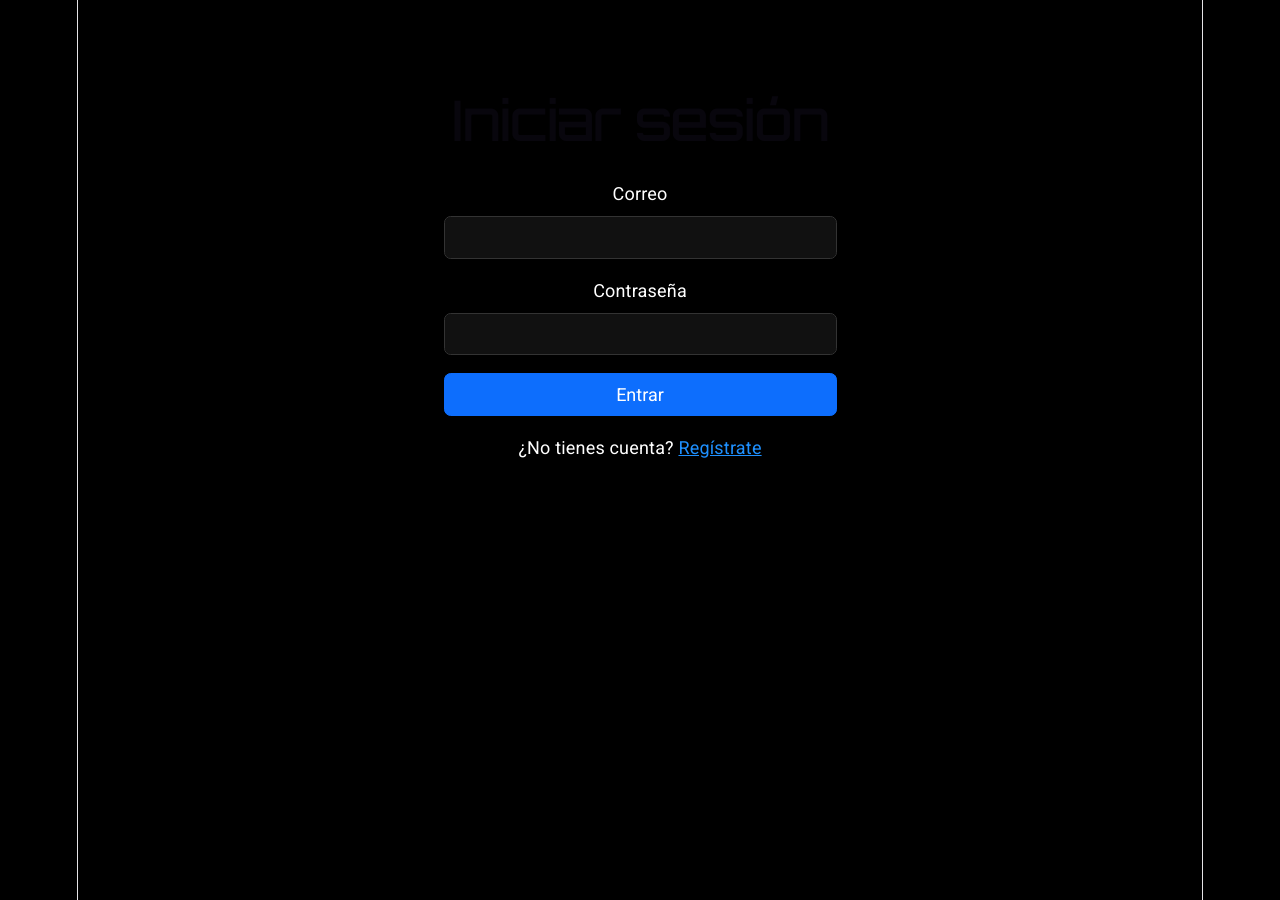
Test: Login › muestra error con credenciales incorrectas
The image size is (1280, 900).
Type "x@mail.com" into the field labelled "Correo".
click(640, 237); type("x@mail.com")  # box [444,216,836,259]
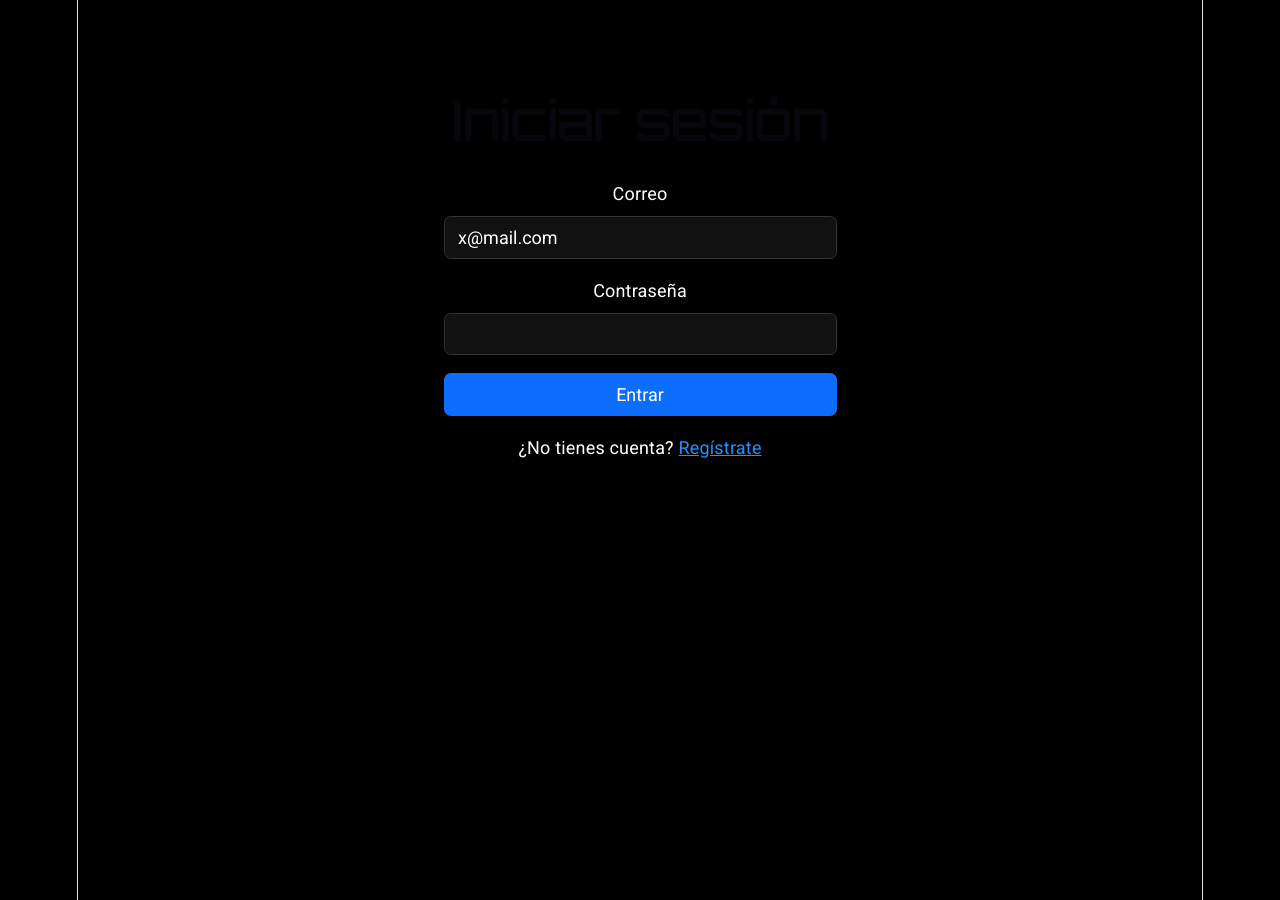
Type "000000" into the password field labelled "Contraseña".
click(640, 334); type("000000")  # box [444,313,836,355]
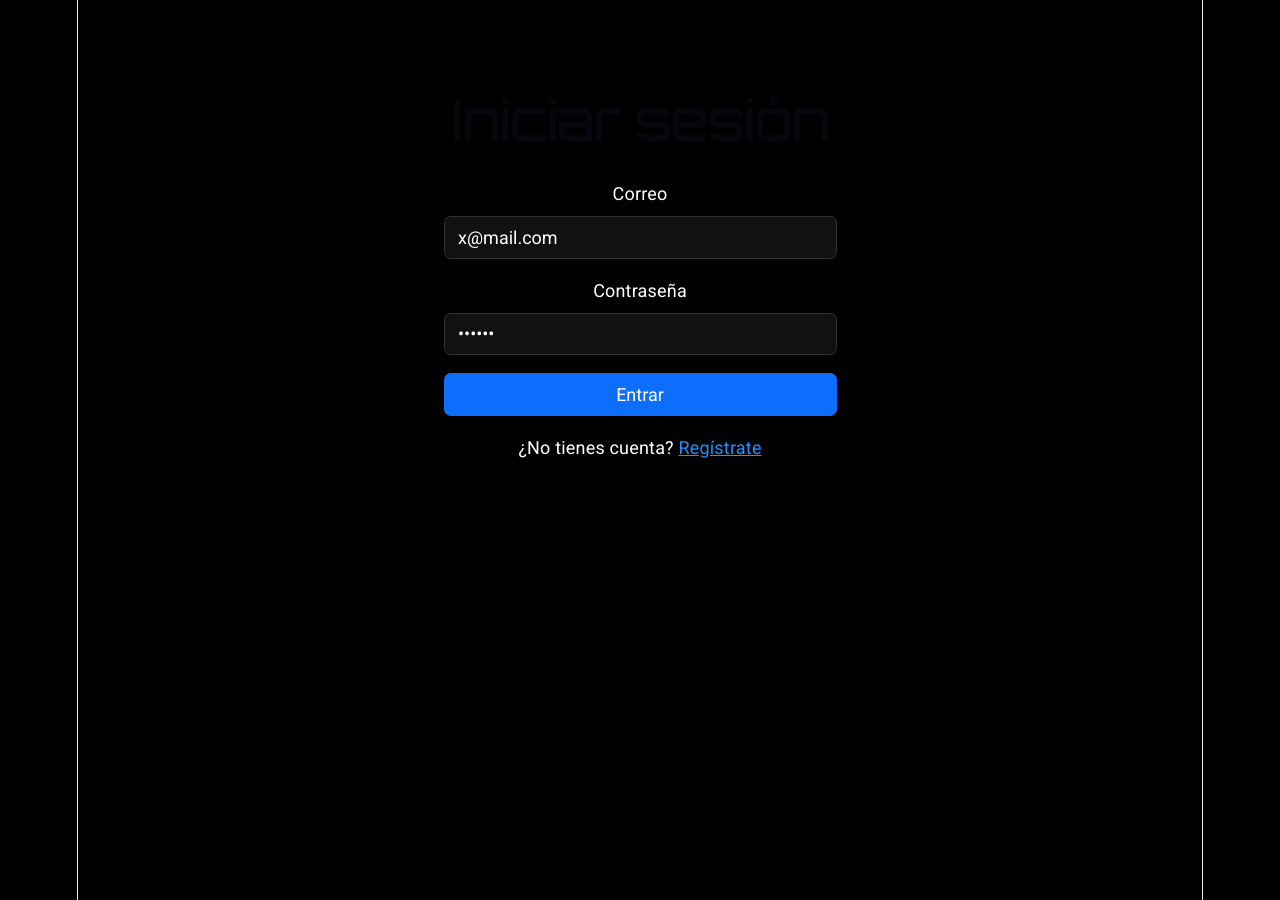
Click the button "Entrar".
click(640, 394)  # box [444,373,836,416]
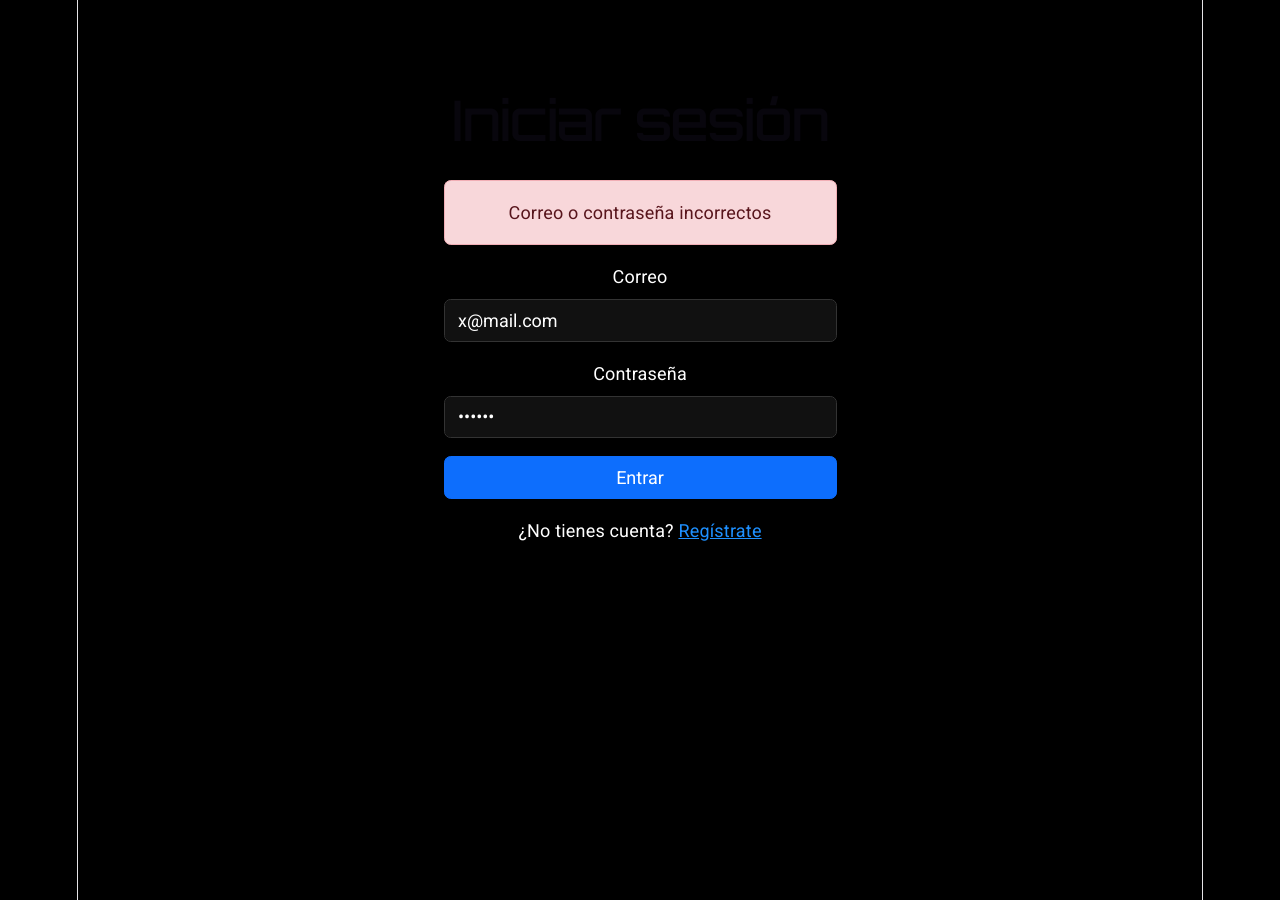
expect the text "Correo o contraseña incorrectos" is shown: met, box [444,180,836,245]
